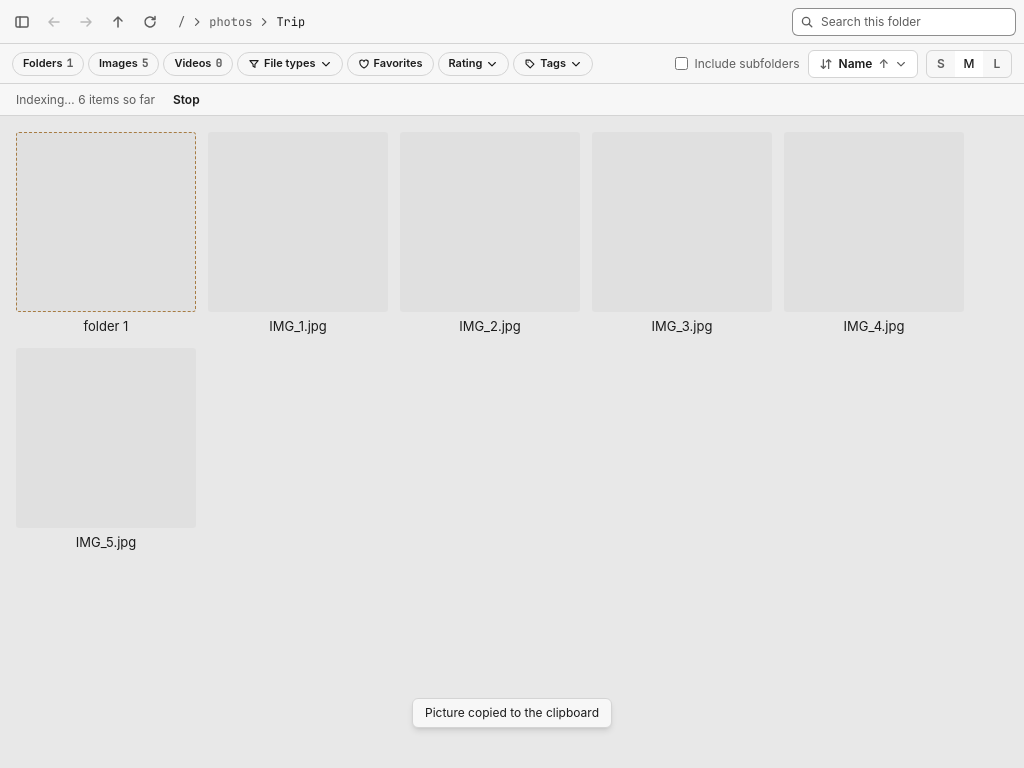
clipboard and delete › Ctrl+C on one picture also puts the picture on the OS clipboard
This screenshot has width=1024, height=768.
Expected: the text "IMG_2.jpg" is shown, [459,318,521,334]
Click the cell "IMG_2.jpg".
click(490, 240)  # box [400,132,580,348]
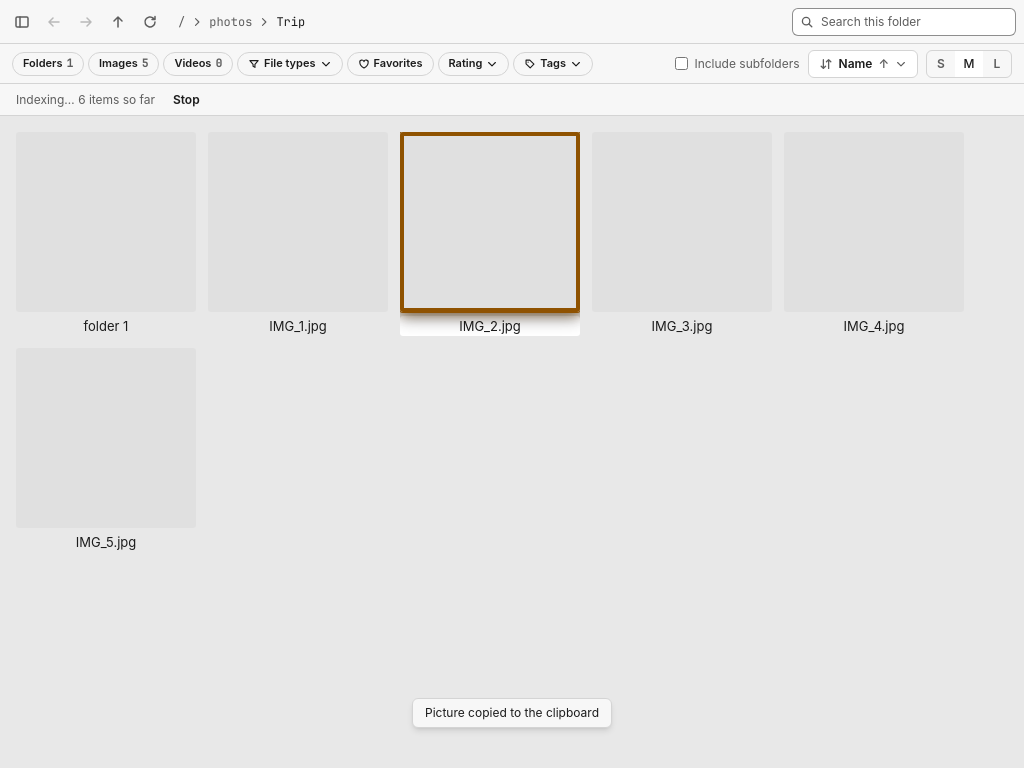
Type keys "{Control>}c{/Control}"
Type keys "{Control>}c{/Control}"
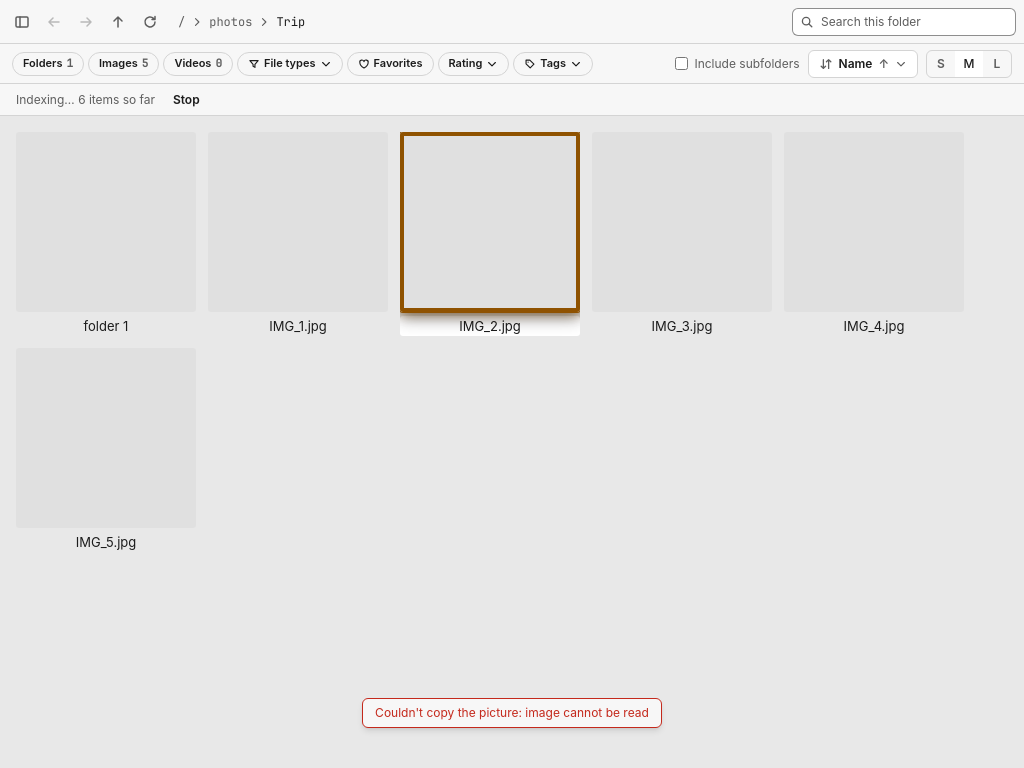
Expected: the text with test id "notice" reads "Couldn't copy the picture: image cannot be read", [375,705,649,720]
